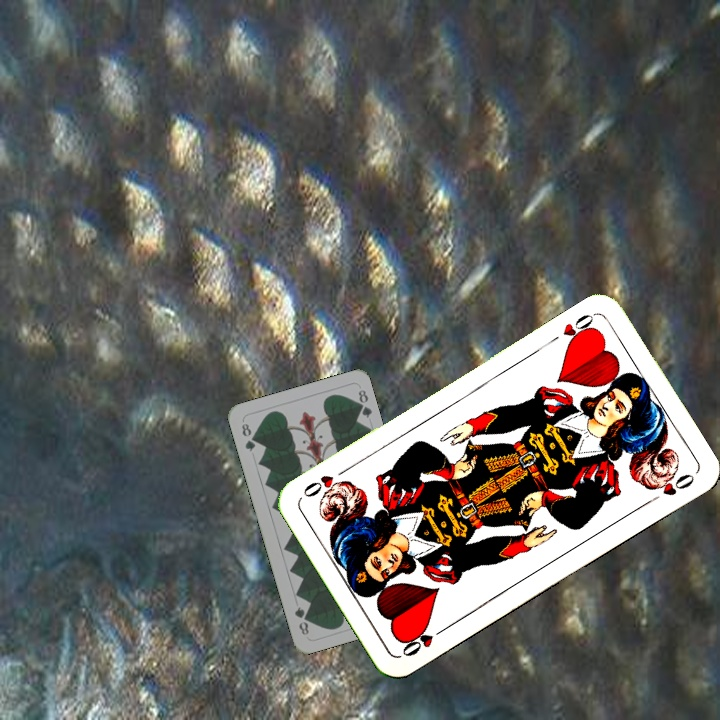G8: (237, 419, 258, 454)
HO: (397, 622, 450, 659), (558, 309, 598, 349)
